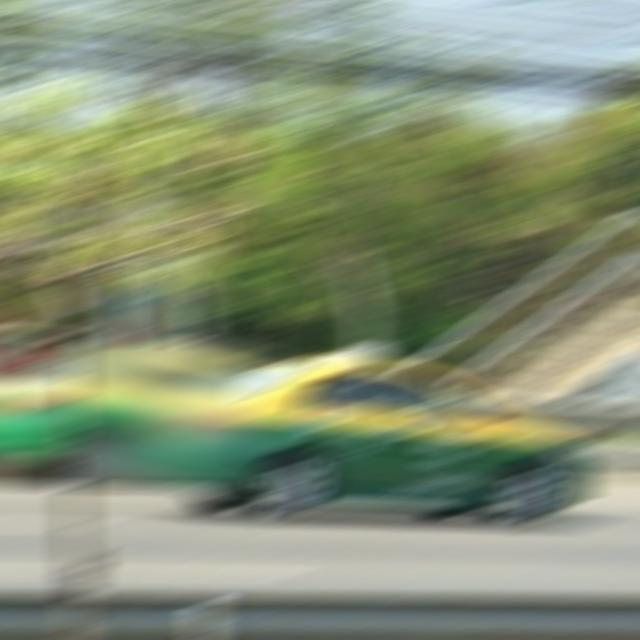Fire: (72, 344, 252, 482), (0, 370, 74, 481)
Taxi: (140, 352, 590, 517)
